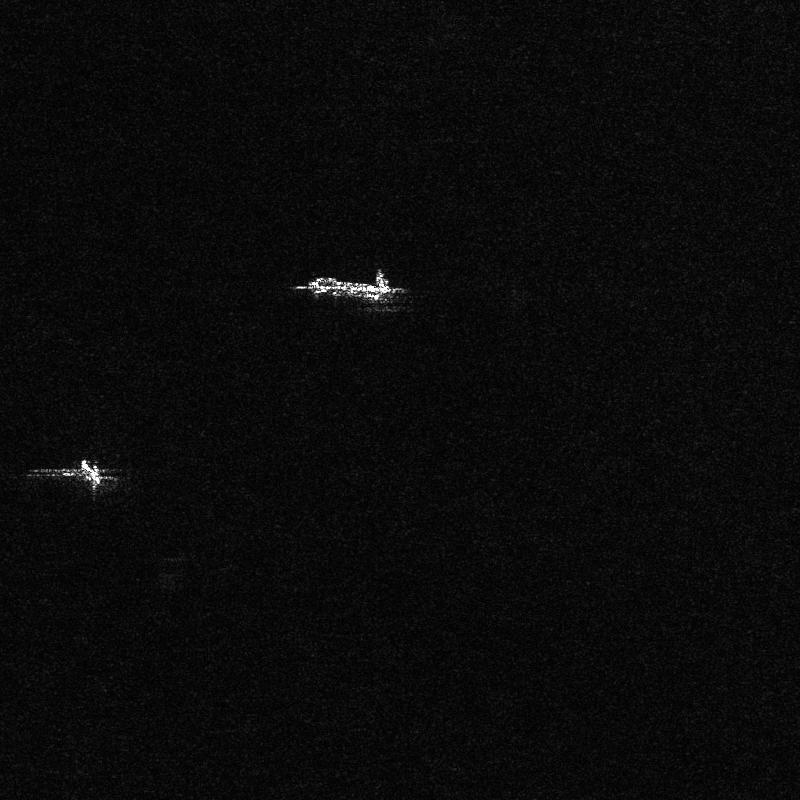ship: (307, 269, 404, 301), (80, 459, 102, 485)
